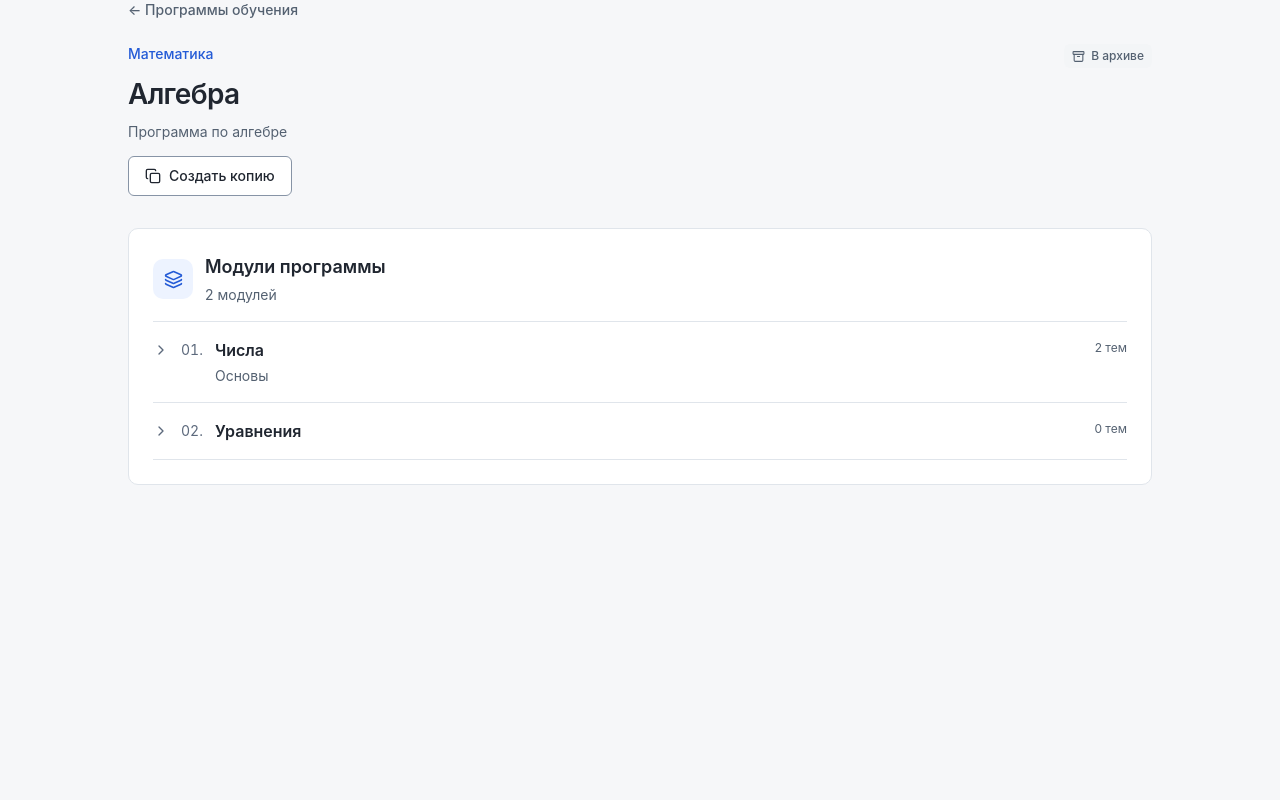
Test: TeacherProgramDetailView › offers duplication for ARCHIVED (assigned: true, editable: false)
Step 1. Click the button "Создать копию" → {"x": 210, "y": 176}, box [128,156,292,196]
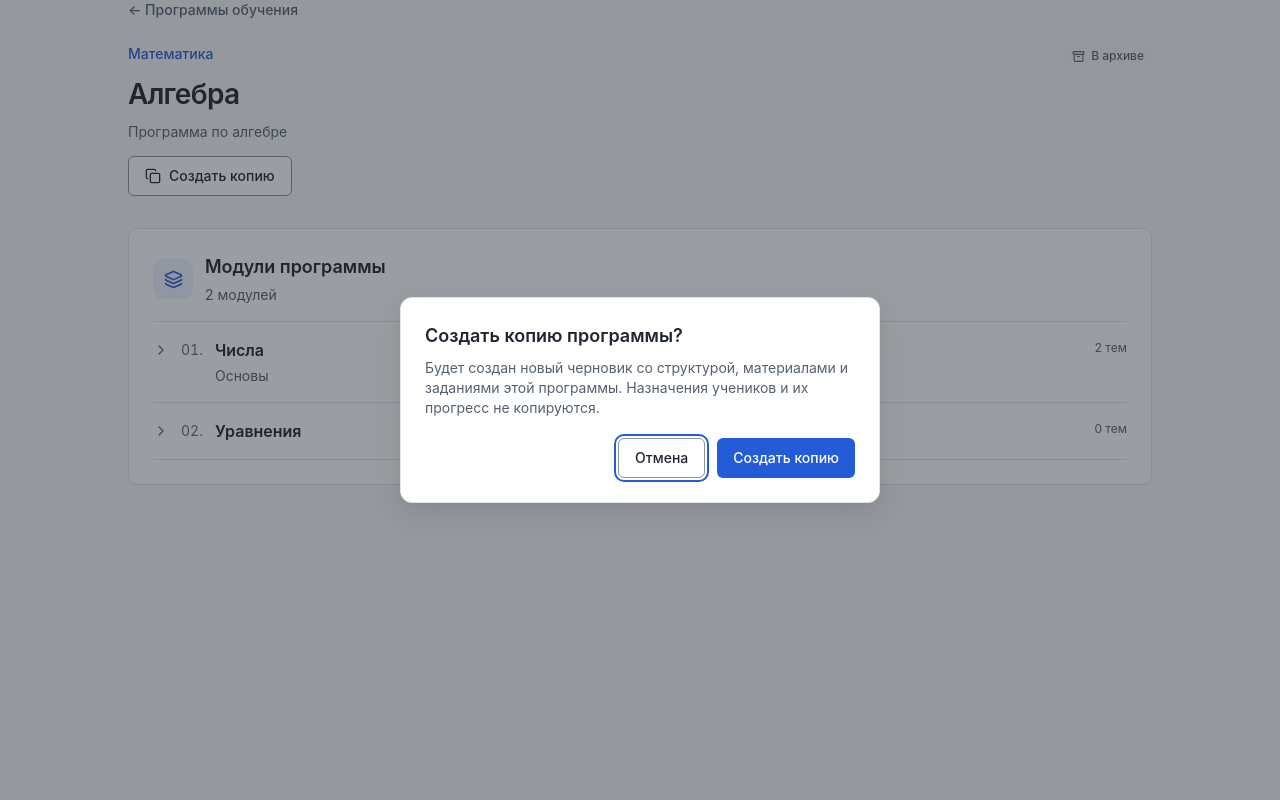
expect the dialog "Создать копию программы?" is shown: met, box [400,297,880,503]
